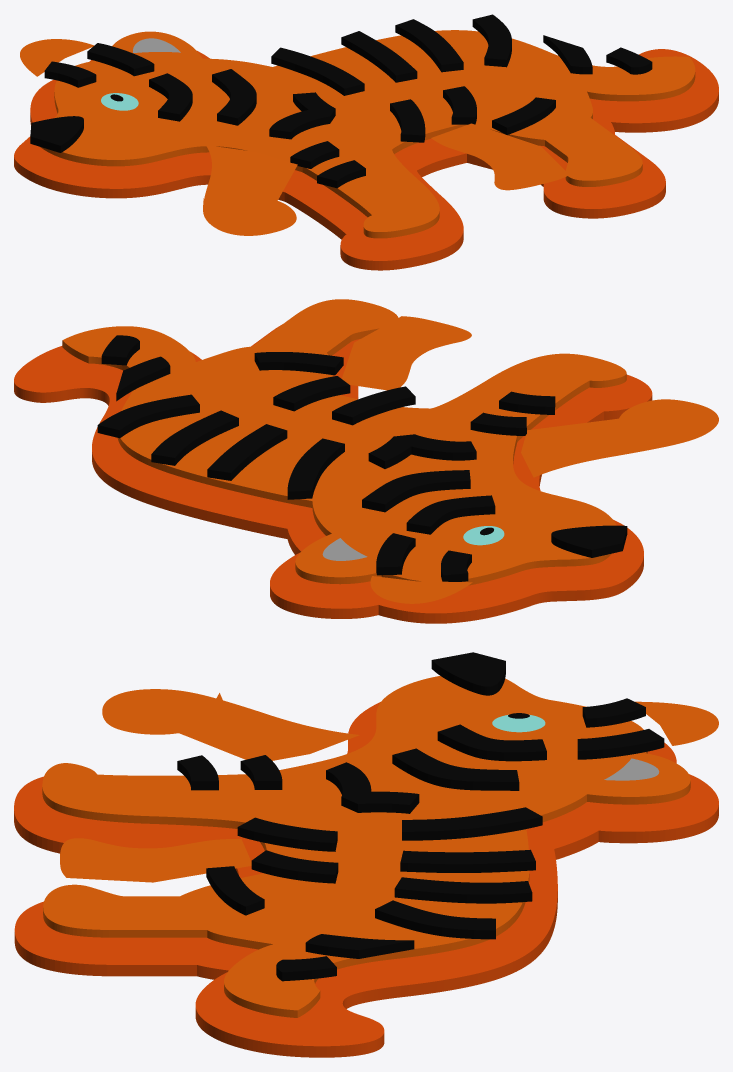
Rendered from Tiger.glb.
3 views of the same model, one above another, from view 1: azimuth 30°, elevation 25°; view 2: azimuth 150°, elevation 25°; view 3: azimuth 270°, elevation 25° (orthographic). The views are drawn at different scales.
Parts seen in each view (by area): view 1: Text; view 2: Text; view 3: Text.
Part boxes in pixels (left/top/right/bottom): Text: left=14, top=14, right=718, bottom=270; Text: left=14, top=299, right=718, bottom=623; Text: left=14, top=652, right=718, bottom=1057.
Bounding box in the file's own units: 1.18 × 0.0708 × 0.967.
